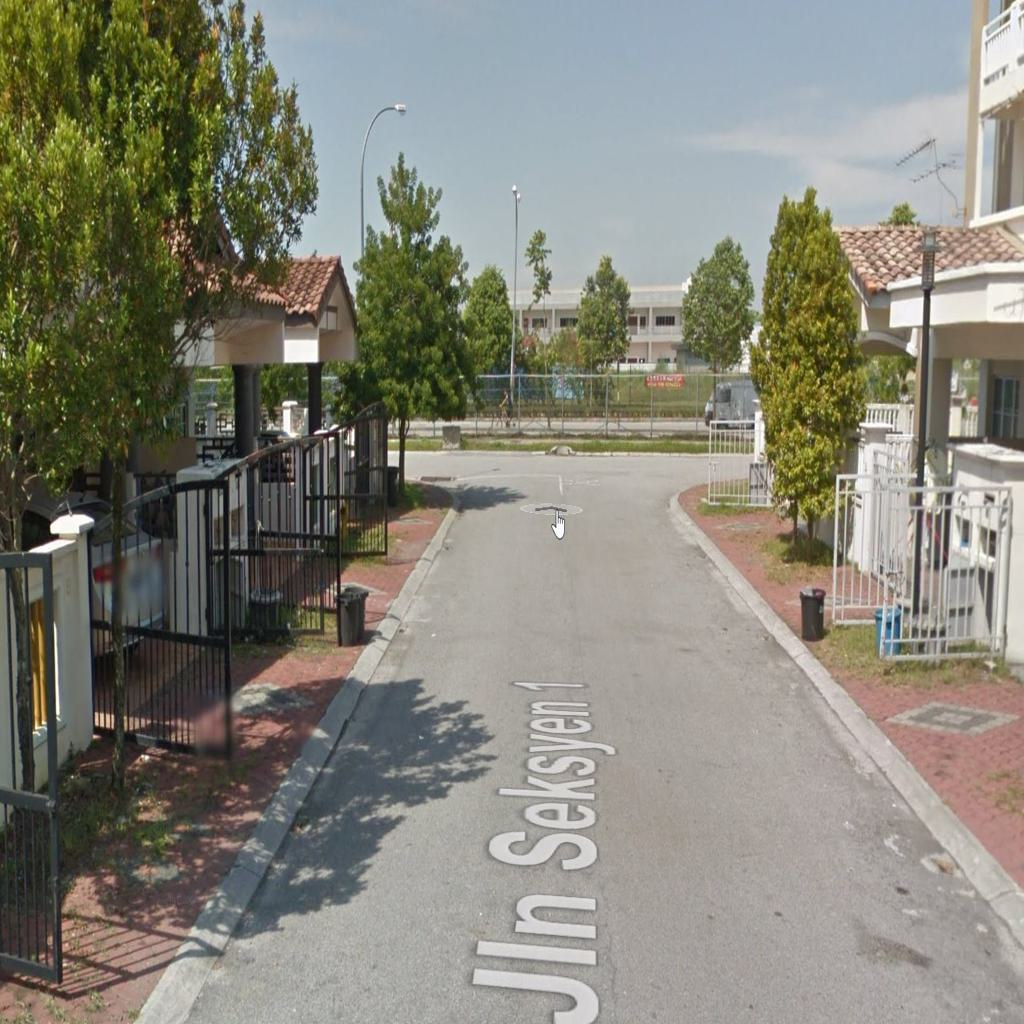Junction: (630, 428, 750, 526), (394, 424, 489, 513)
